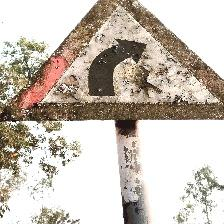Right-turn: (2, 1, 221, 118)
